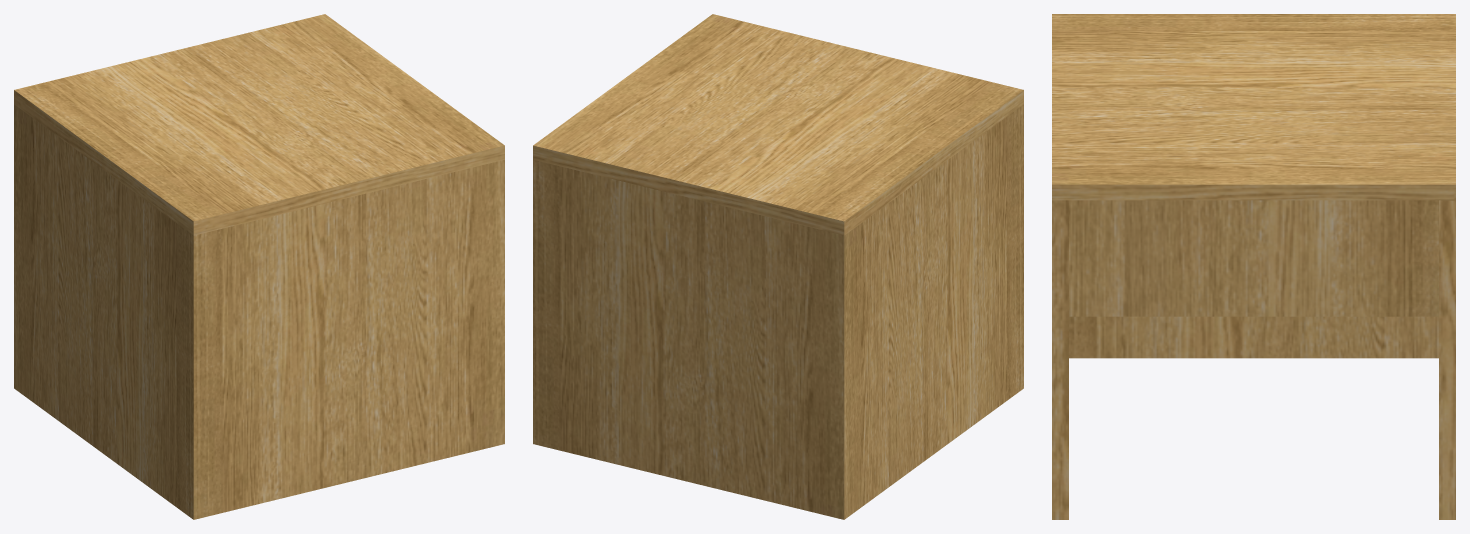
File: LabDesk.fbx
3 renders of one model, left to right at view 1: azimuth 30°, elevation 25°; view 2: azimuth 150°, elevation 25°; view 3: azimuth 270°, elevation 25°, orthographic. The views are drawn at different scales.
Visible parts, largest first — view 1: LabDesk; view 2: LabDesk; view 3: LabDesk.
Boxes of the visible parts, x1,y1,x2,y2 form: LabDesk: (14,14,504,519); LabDesk: (533,14,1023,519); LabDesk: (1052,14,1455,519).
Size of the model in its own units: 60 by 55 by 60.
1 material, 1 textured.
